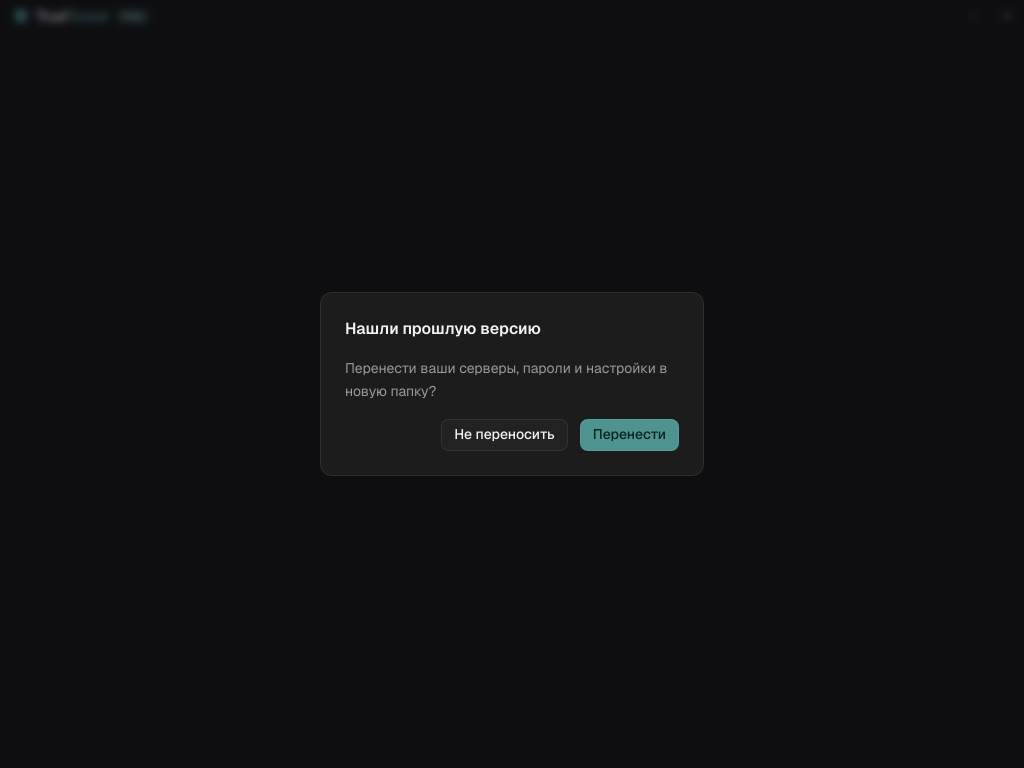
Test: MigrationOfferGate › tells the user when the move failed — the same screen as a success would be a lie
This screenshot has width=1024, height=768.
expect the heading "Нашли прошлую версию" is shown: met, box x1=345 y1=318 x2=541 y2=339
What coordinates should you click on to do the following:
click the button "Перенести"
I would click on:
 (629, 435)
Its box is x1=580 y1=419 x2=679 y2=451.
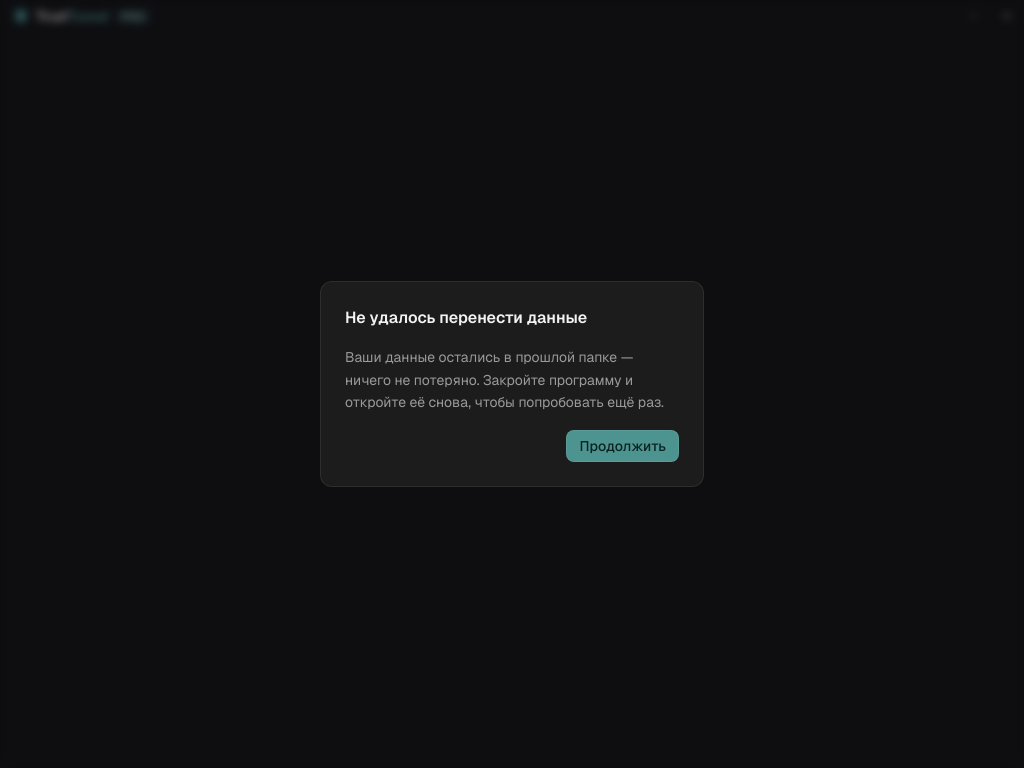
expect the heading "Не удалось перенести данные" is shown: met, box x1=345 y1=307 x2=587 y2=328
expect the text "Ваши данные остались в прошлой папке — ничего не потеряно. Закройте программу и откройте её снова, чтобы попробовать ещё" is shown: met, box x1=345 y1=348 x2=664 y2=411
